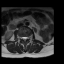CCS_normal: (24, 35, 25, 44)
LFS_normal: (27, 35, 29, 40)
LLS_normal: (25, 35, 27, 40)
RFS_normal: (20, 35, 22, 40)
RLS_normal: (22, 35, 24, 41)
